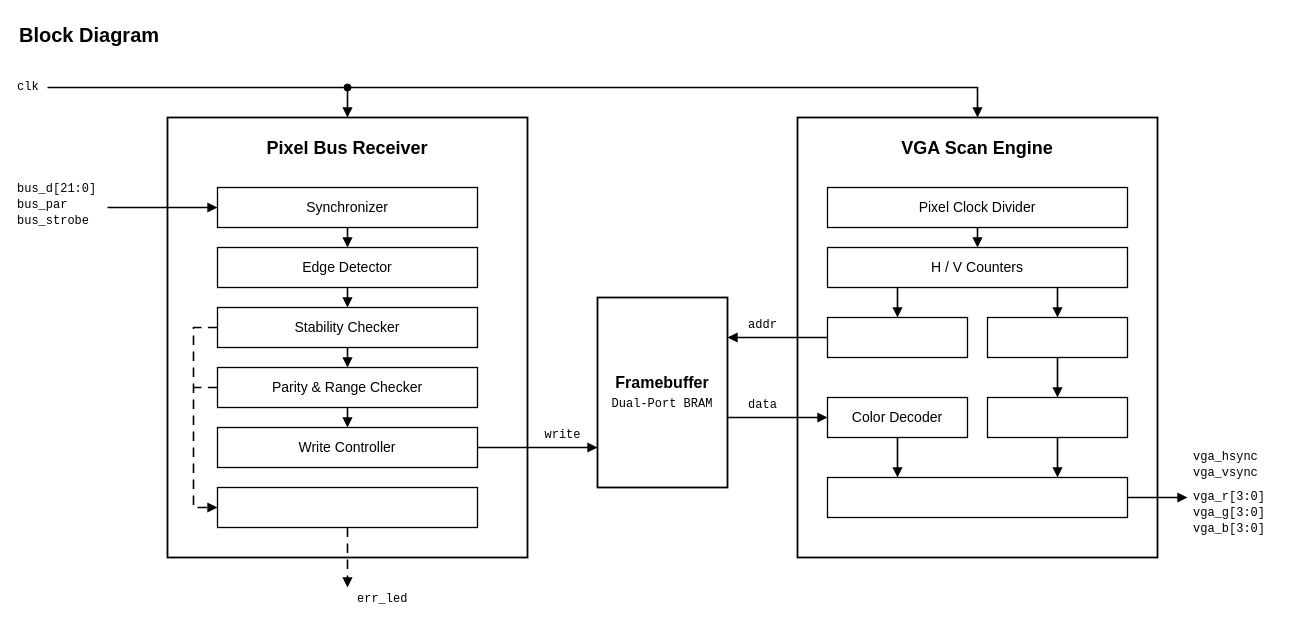
Image size: 1289x624. Some labels were removed from this diagram. The shapes that lost their labels are listed below. From the top down, each one's centre as x and y in pixels, then its label:
At (897,337): "Address Mapper".
At (1057,337): "Timing Controller".
At (1057,417): "Delay Register".
At (347,507): "Error Indicator".
At (977,497): "Output Register".
